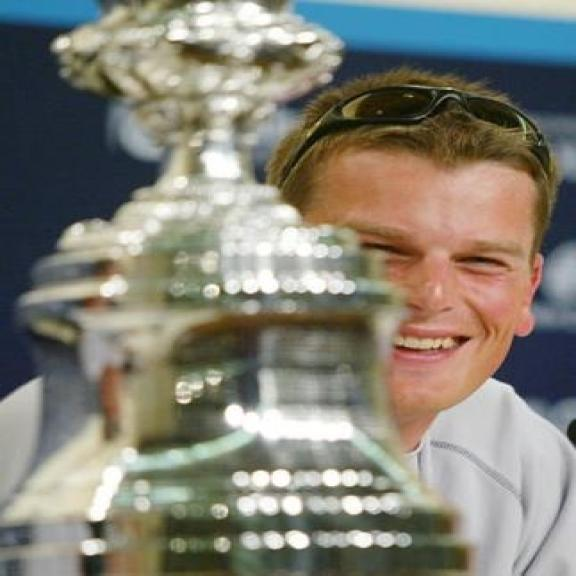face: (282, 127, 546, 411)
